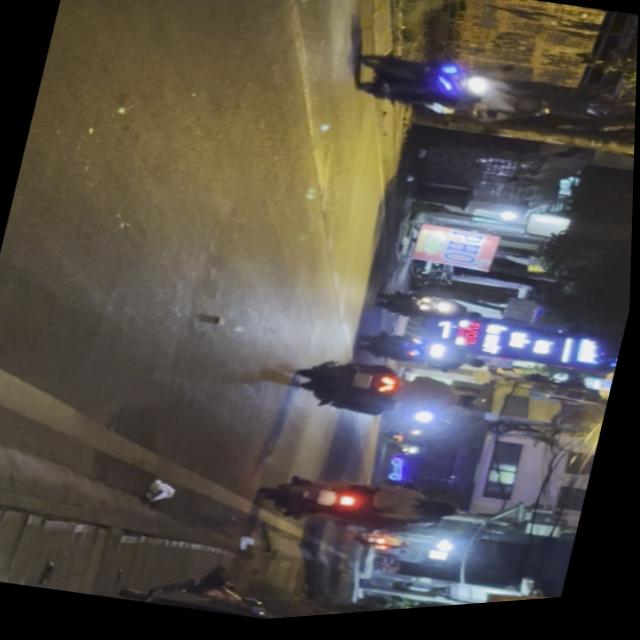helmet: (513, 98, 556, 127)
licenseplate: (347, 37, 565, 151)
